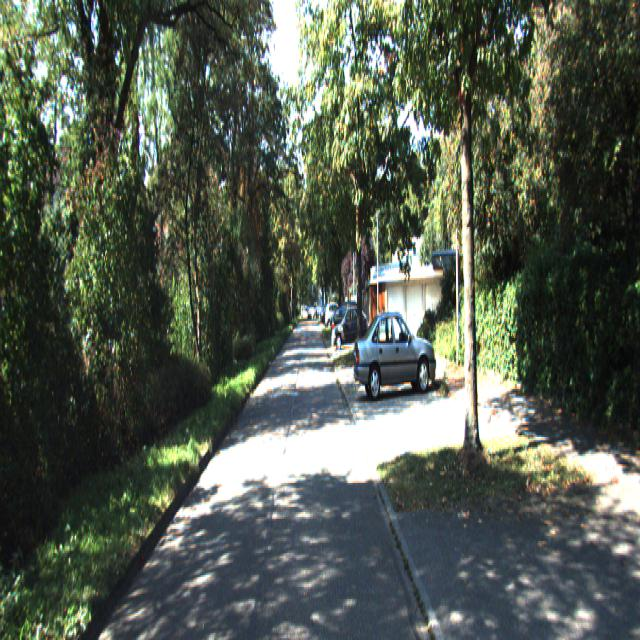Car: (353, 303, 437, 398), (332, 305, 368, 349)
